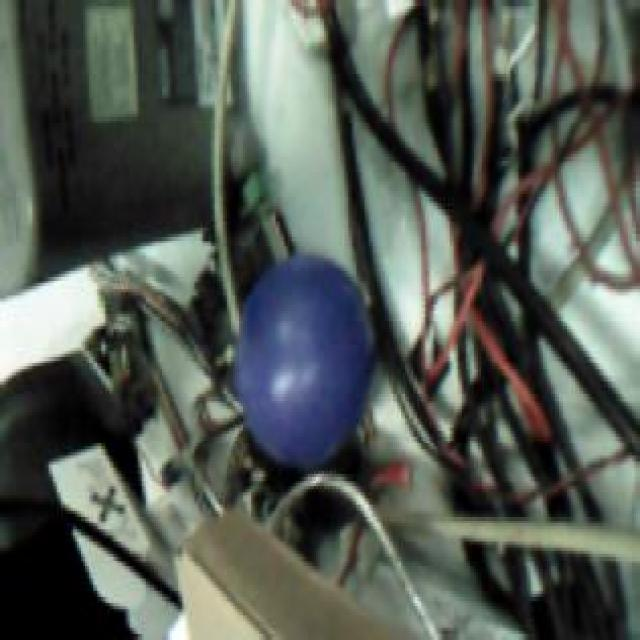BallPurple: (233, 255, 379, 466)
